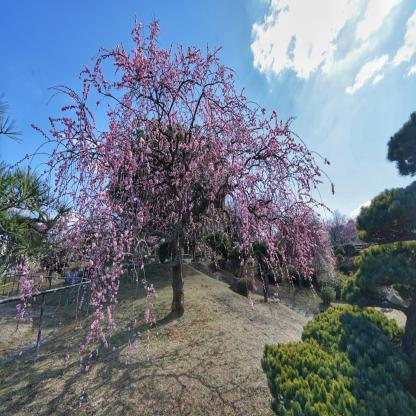Ume: (9, 9, 336, 416), (329, 210, 363, 253)
